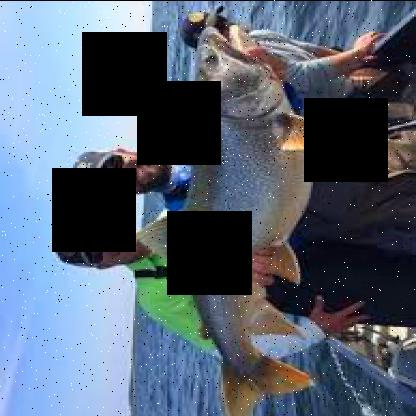fish: (136, 16, 330, 415)
